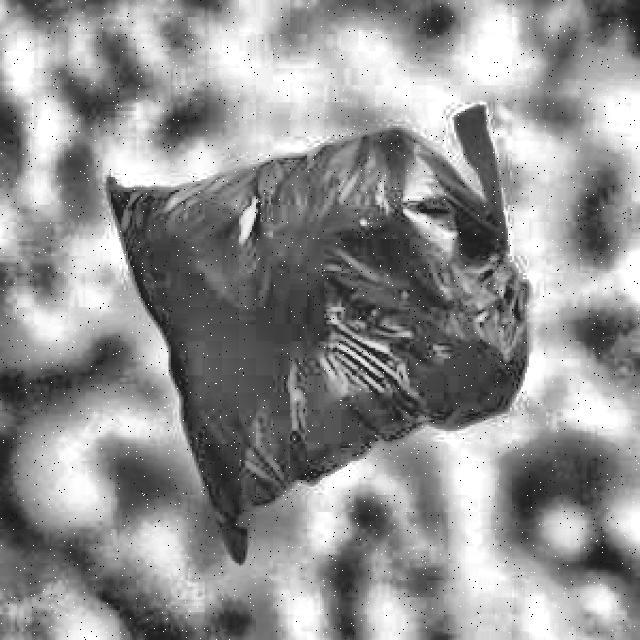Trashbag: (98, 153, 532, 442)
